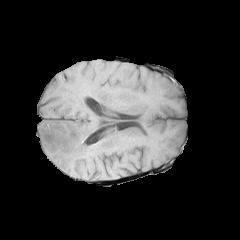glioma: (40, 93, 139, 170)
